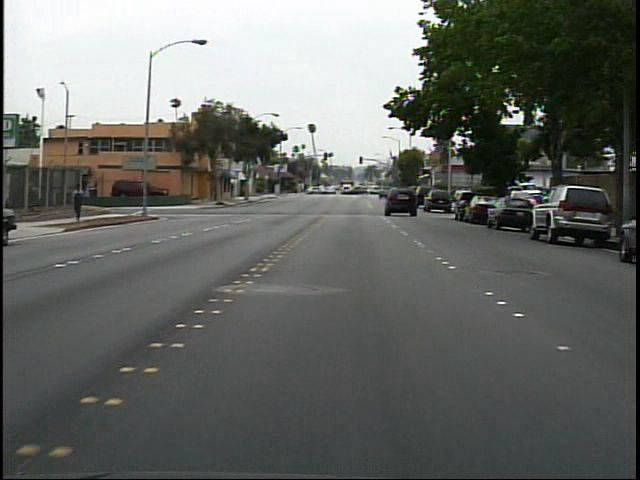person: (70, 179, 94, 226)
